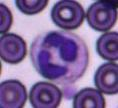N: (29, 31, 89, 82)
